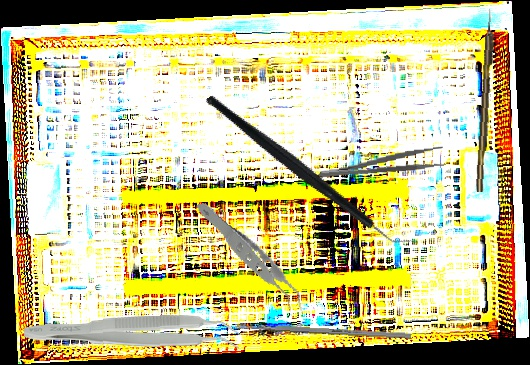Chopper: (204, 45, 416, 297)
Dressing Forceps: (317, 145, 446, 181)
Hook Surgical: (474, 8, 497, 193)
Pusher: (226, 323, 412, 339)
Tissue Forceps: (194, 185, 306, 334), (23, 314, 240, 355)
